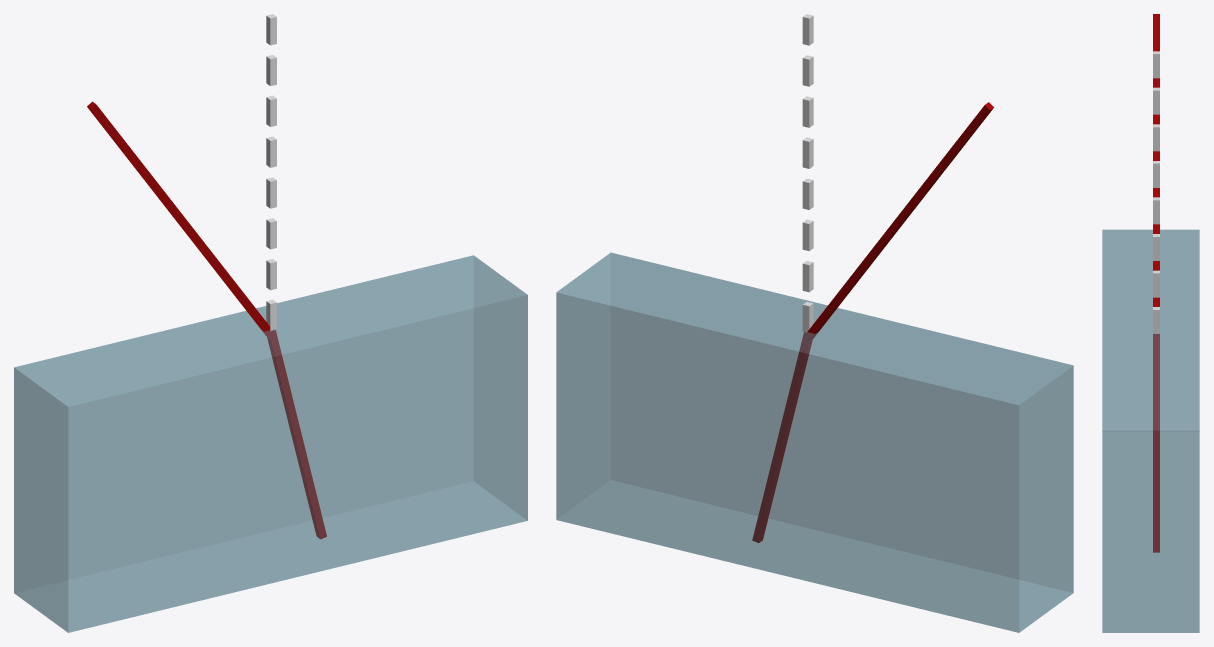
File: first_law.fbx
3 views of the same model, side by side, from view 1: azimuth 30°, elevation 25°; view 2: azimuth 150°, elevation 25°; view 3: azimuth 270°, elevation 25° (orthographic). The views are drawn at different scales.
Visible parts, largest first — view 1: first_law; view 2: first_law; view 3: first_law.
Boxes of the visible parts, x1=… form: first_law: x1=14, y1=14, x2=527, y2=632; first_law: x1=556, y1=14, x2=1073, y2=632; first_law: x1=1102, y1=14, x2=1199, y2=632.
Size of the model in its own units: 47.83 by 53.47 by 9.77.
